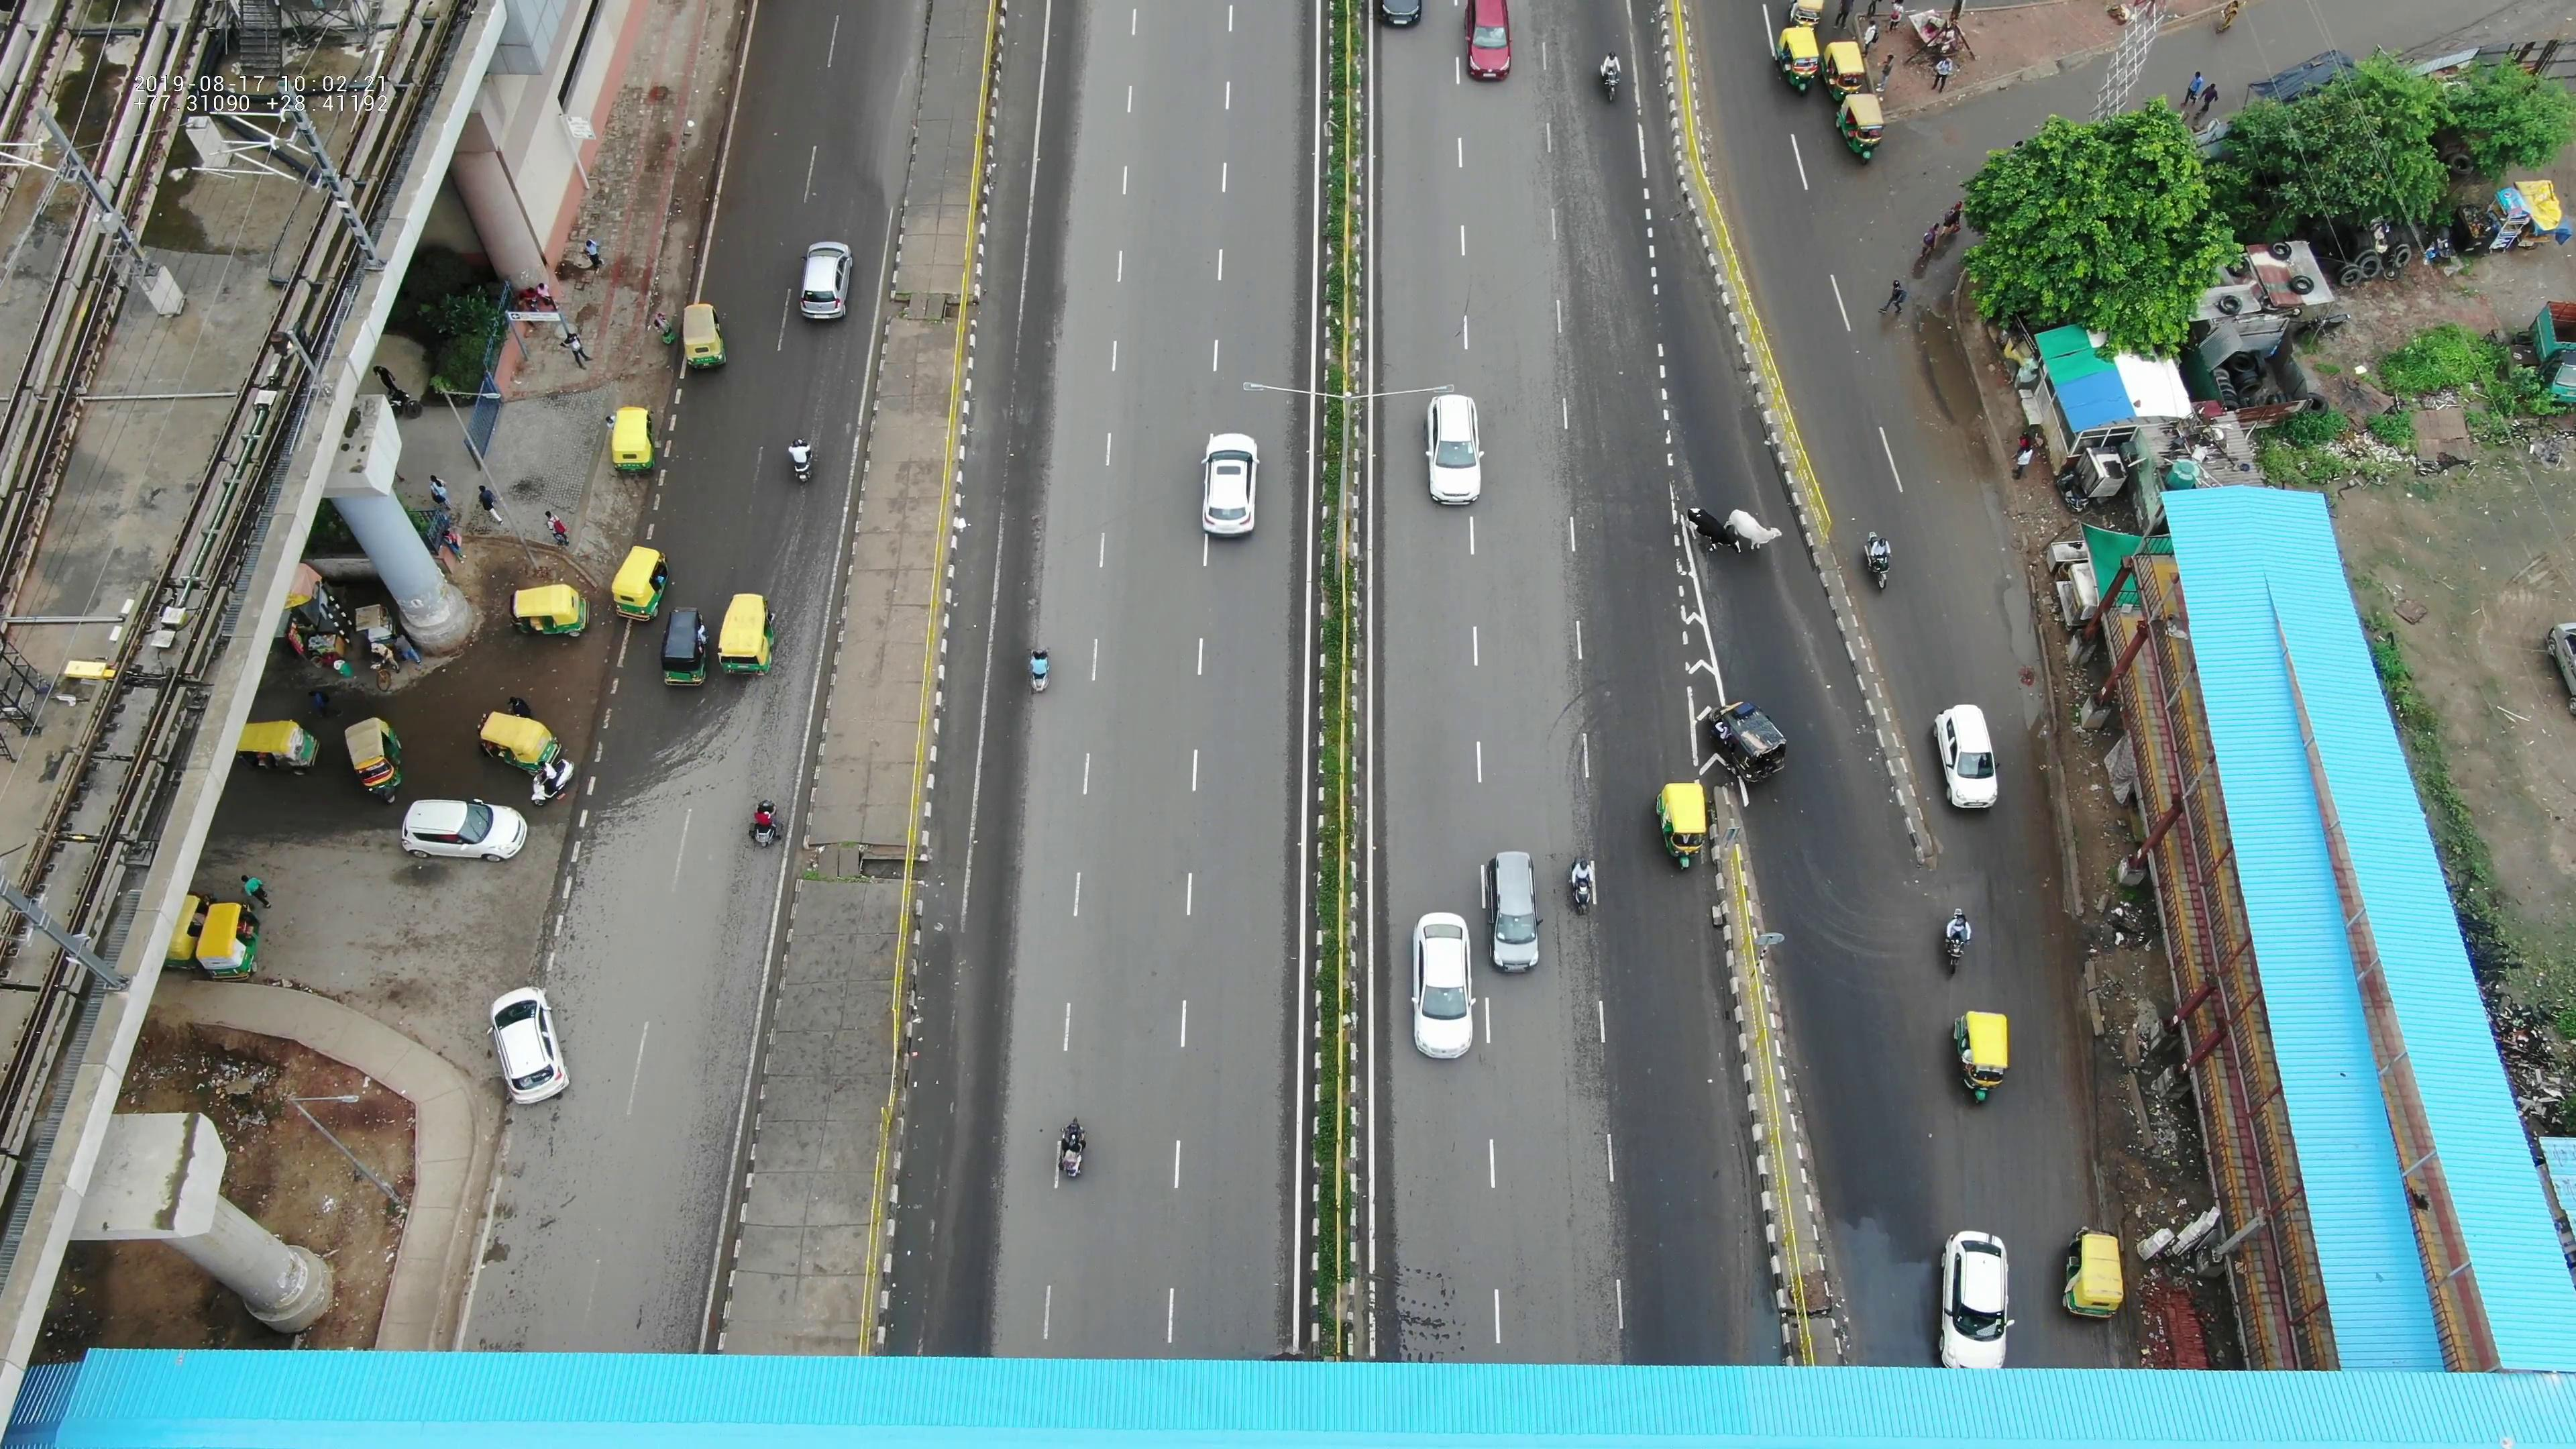Waterlogging: (1746, 416, 1849, 672), (1918, 322, 1983, 455)
